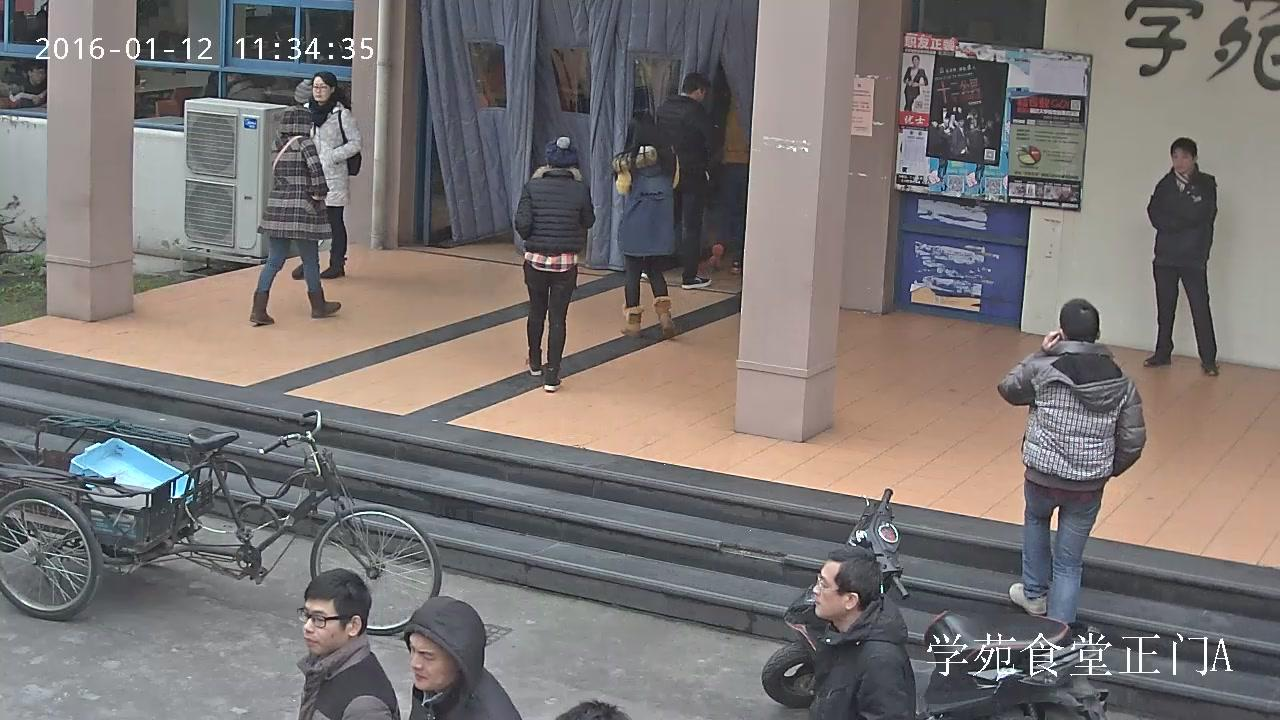person: (997, 299, 1145, 631), (513, 134, 596, 391), (249, 106, 342, 325), (804, 546, 916, 720), (1141, 137, 1217, 375), (295, 567, 402, 720), (639, 70, 712, 289), (611, 111, 680, 338), (290, 70, 362, 280), (402, 595, 520, 720), (707, 74, 751, 275), (6, 59, 46, 109), (903, 54, 927, 111)
